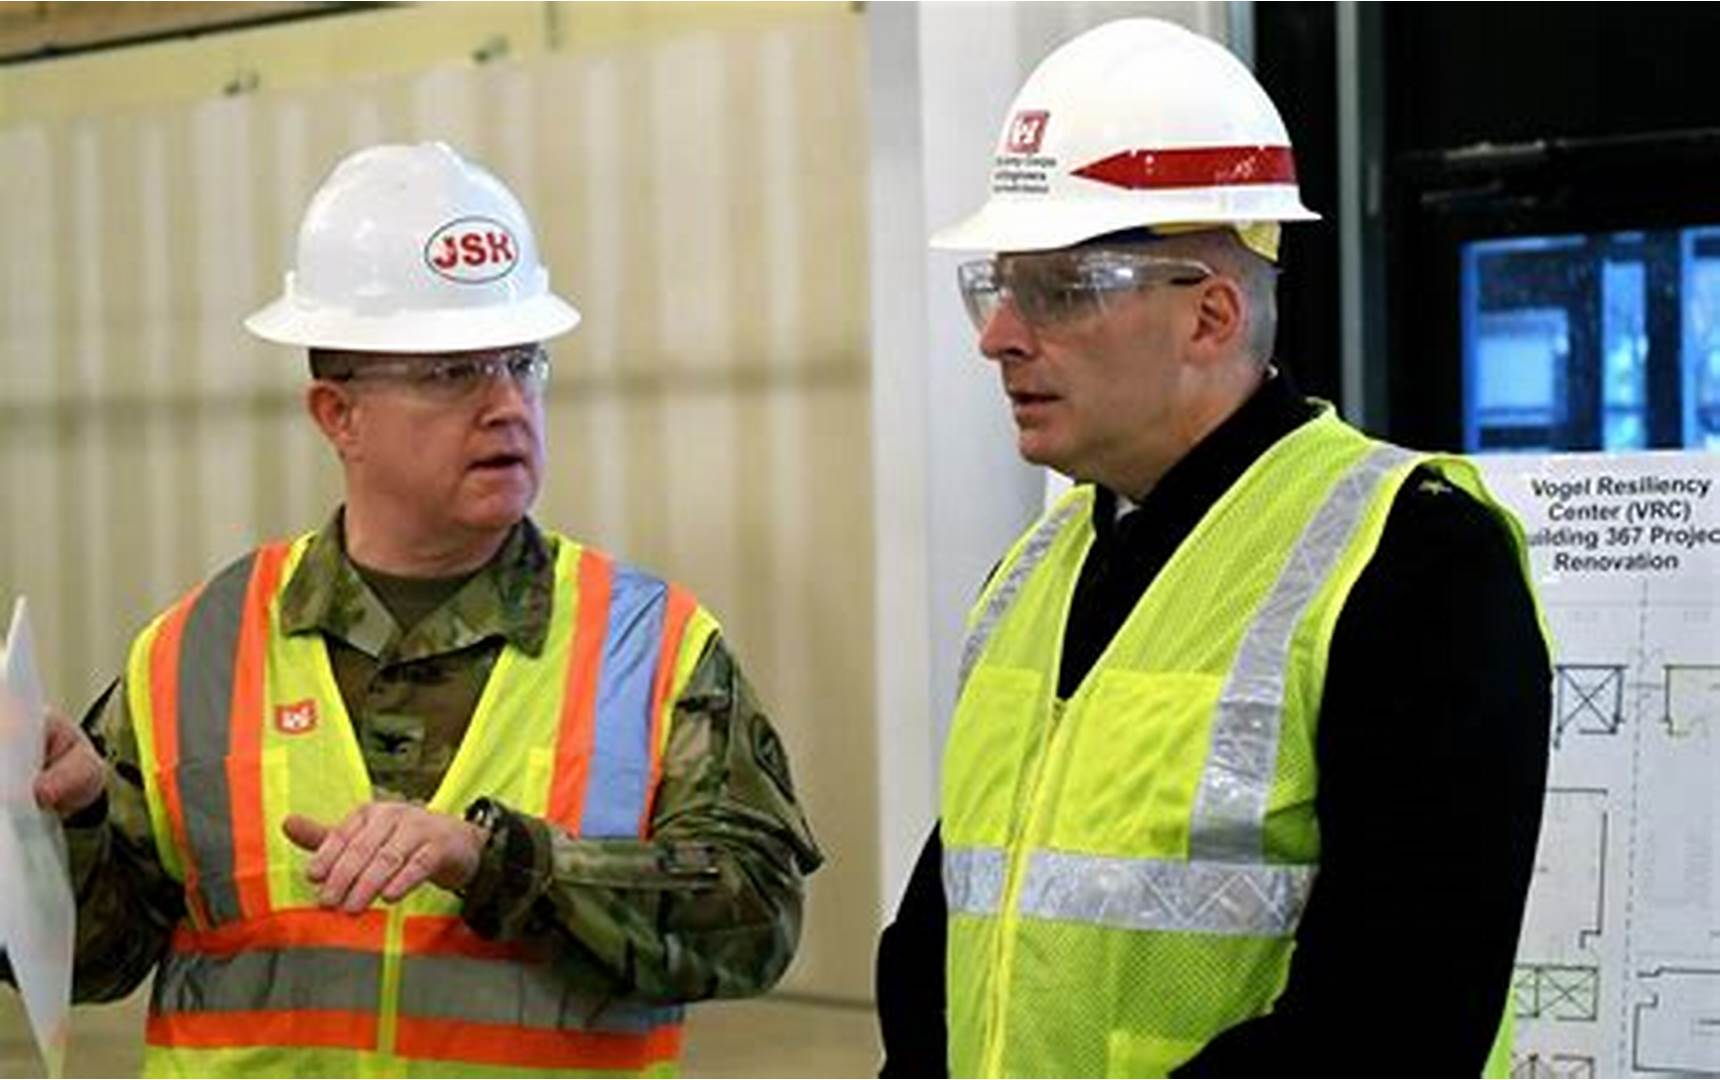Helmet: (878, 1, 1347, 531), (230, 124, 621, 569)
Reflective vest: (917, 389, 1561, 1080), (113, 515, 711, 1080)
